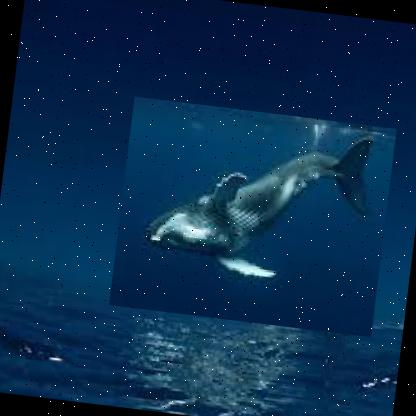blue_whale: (108, 95, 397, 337)
